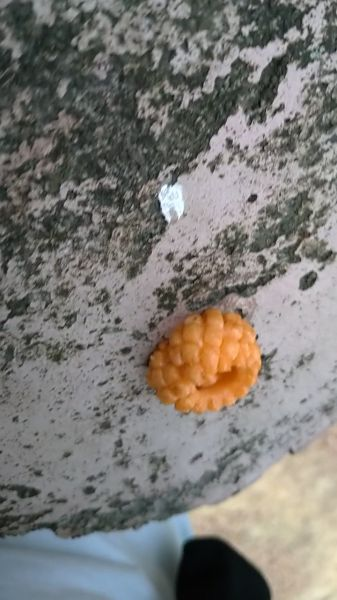eggs: (141, 301, 264, 420)
